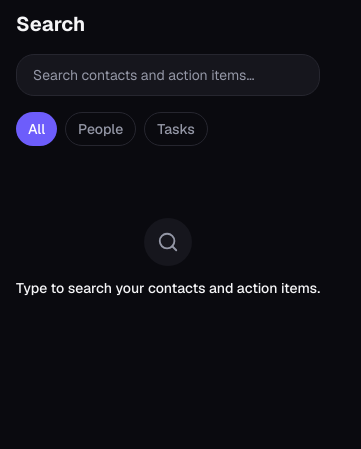
SearchPage › shows an inline error and keeps prior results on failure
In the field with placeholder "Search contacts and action items…": x=168, y=75 [16, 54, 320, 96], type "kept"
Wait 300 ms
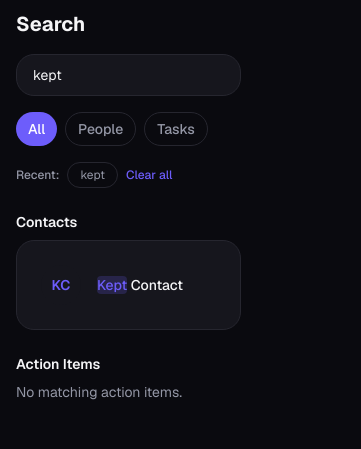
Now the link "Kept Contact" is shown, box [97, 276, 183, 294]
Replace the text in the field with placeholder "Search contacts and action items…" with "kept2": x=128, y=75 [16, 54, 241, 96]
Wait 300 ms
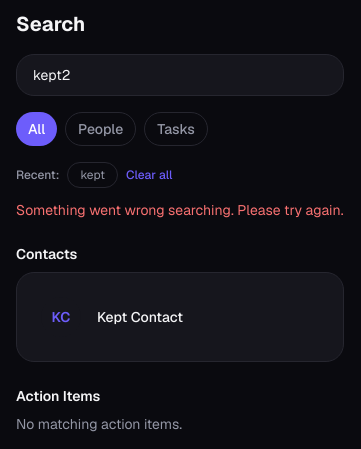
Now the link "Kept Contact" is shown, box [97, 308, 183, 326]
Now the text "Something went wrong searching. Please try again." is shown, box [16, 200, 344, 220]
